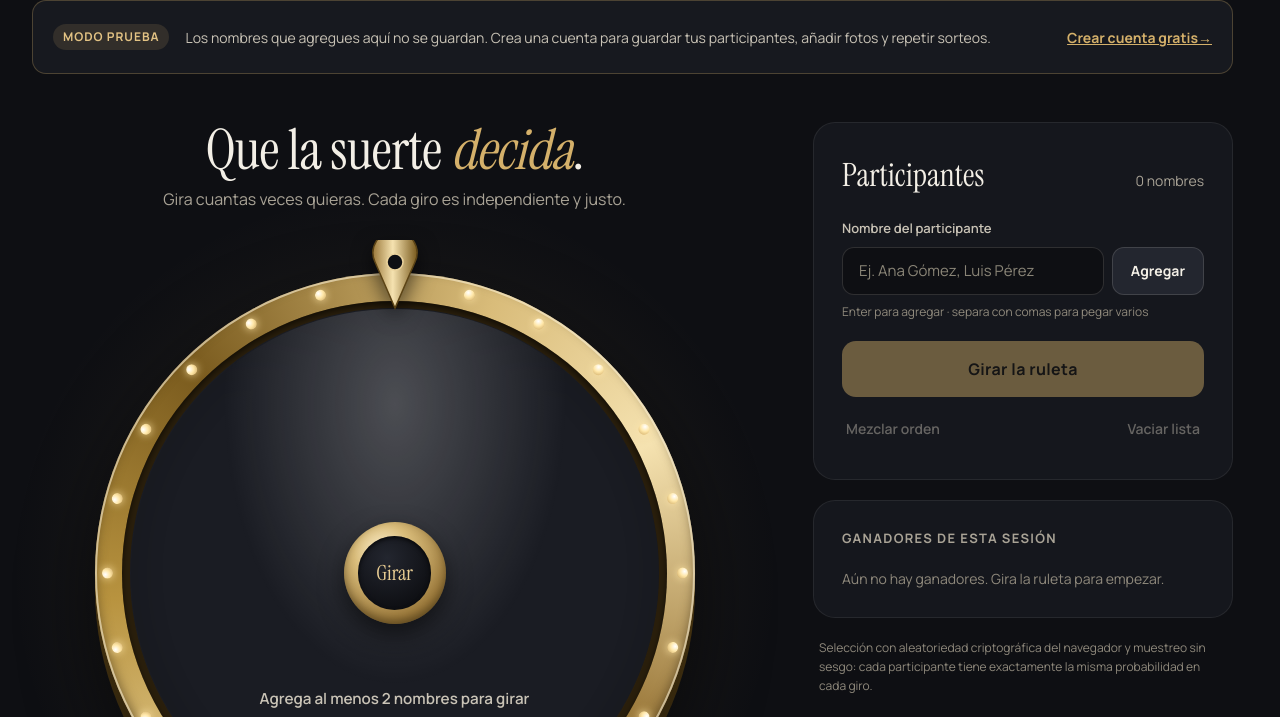
Test: Modo prueba (HU-01 a HU-04) › vacía la lista solo después de confirmar
Type "Ana, Luis" into the field labelled "Nombre del participante". click: (973, 270)
box: [842,246,1104,294]
Then press Enter
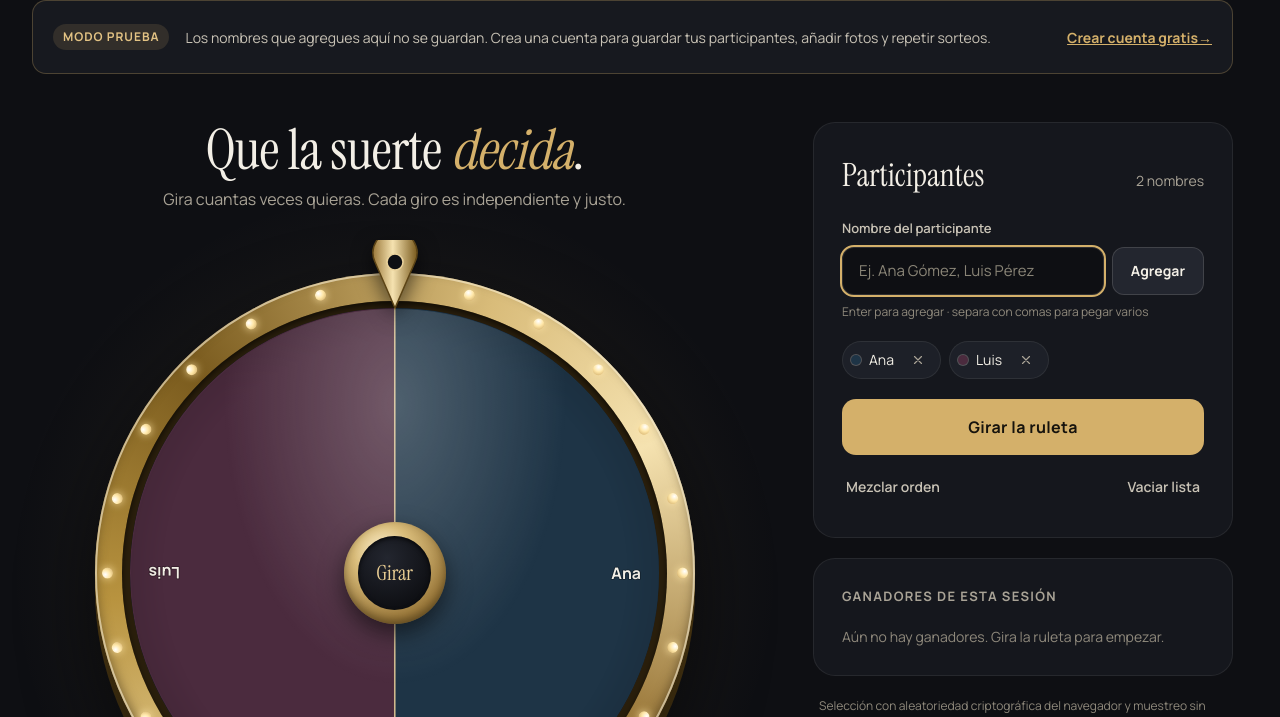
Click the button "Vaciar lista". click: click(1164, 486)
box: [1123,464,1204,508]
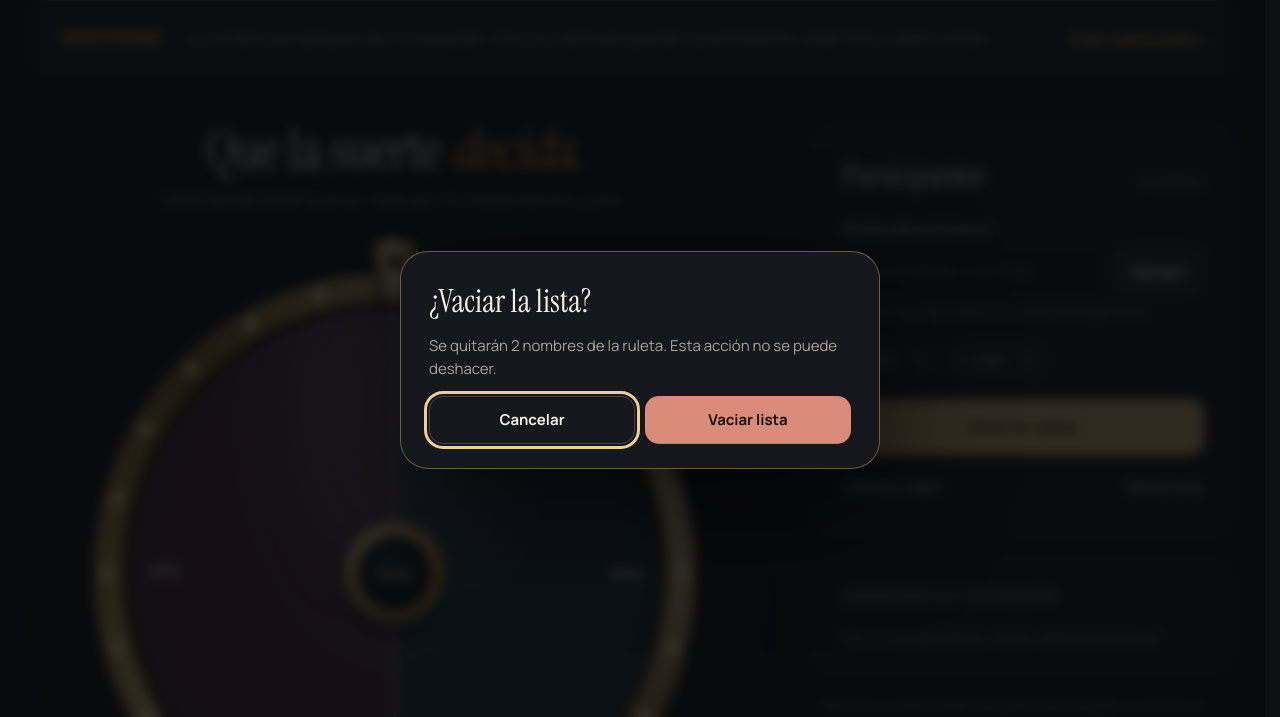
Click the button "Vaciar lista". click: click(748, 420)
box: [645,396,851,444]
(page scrolled)
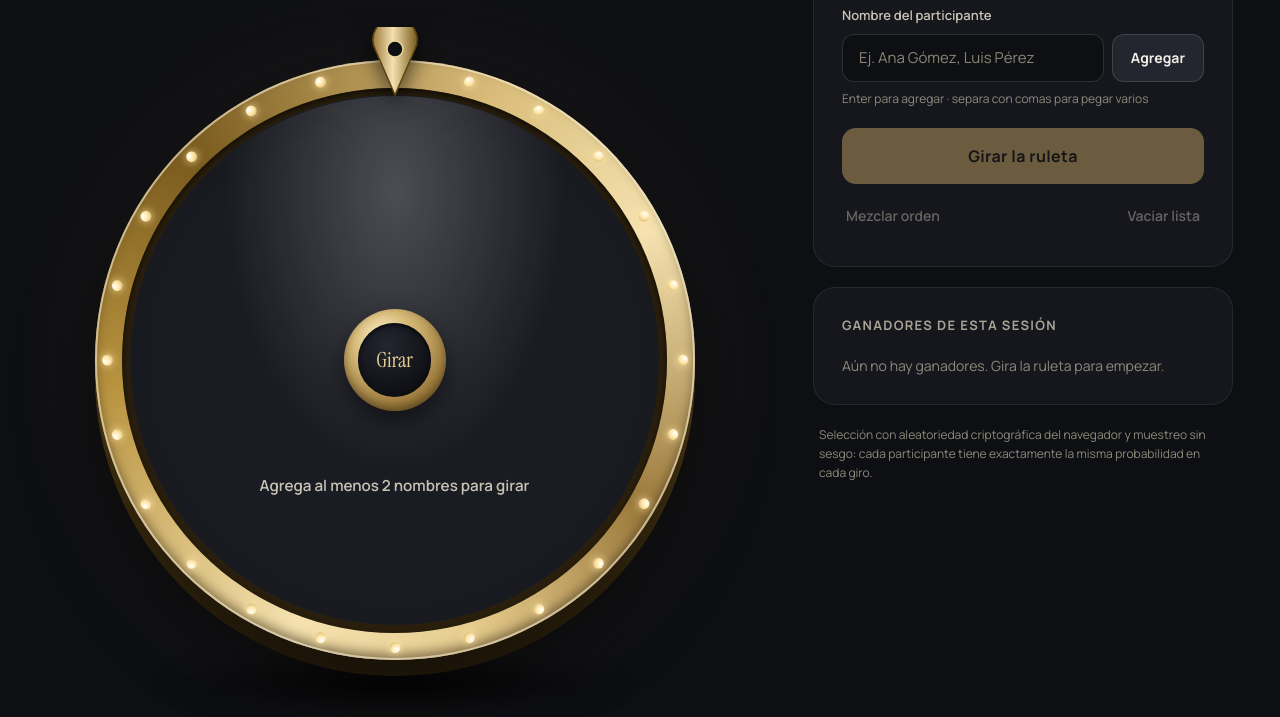
Expected: the text "Agrega al menos 2 nombres para girar" is shown, [260,475,530,496]
